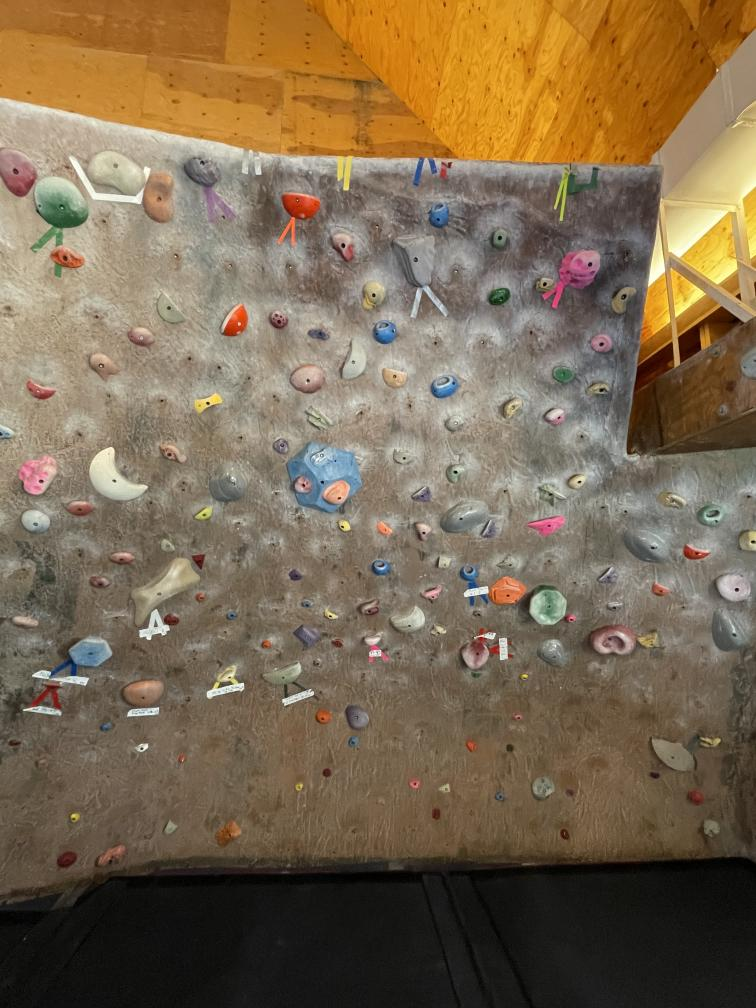Crimp: (89, 446, 149, 502), (260, 661, 303, 688), (388, 606, 427, 635), (156, 291, 187, 325), (26, 376, 56, 402), (292, 623, 320, 649), (381, 364, 408, 390), (485, 286, 512, 308), (682, 543, 712, 562), (648, 580, 673, 599), (306, 325, 331, 342), (88, 574, 113, 591), (271, 435, 291, 455), (376, 518, 394, 537), (286, 566, 305, 583), (40, 681, 64, 694), (161, 613, 181, 628), (193, 506, 214, 520), (158, 538, 177, 553), (338, 519, 353, 534), (323, 608, 339, 621)
Edges: (130, 556, 203, 630), (390, 228, 437, 290), (620, 521, 676, 568), (710, 604, 751, 659), (440, 497, 492, 532), (338, 337, 370, 383), (183, 152, 222, 189), (487, 574, 527, 608), (535, 636, 569, 671), (306, 405, 334, 434), (536, 481, 567, 506)
Foothold: (89, 840, 127, 869), (636, 629, 672, 655), (528, 774, 558, 802), (214, 820, 242, 849), (698, 730, 722, 751), (158, 818, 180, 839), (55, 853, 76, 872), (686, 787, 707, 806), (702, 817, 721, 838), (31, 756, 52, 772), (95, 723, 118, 737), (6, 736, 22, 754), (462, 739, 479, 755), (406, 778, 424, 792), (605, 600, 624, 612), (327, 638, 346, 649), (559, 826, 572, 842), (136, 742, 152, 755), (564, 614, 578, 628), (292, 782, 305, 796), (440, 782, 454, 794), (346, 736, 360, 748), (262, 636, 272, 651), (649, 770, 661, 782), (195, 592, 207, 604), (495, 790, 506, 803), (71, 812, 82, 825), (300, 599, 314, 609), (432, 807, 441, 821), (565, 788, 575, 799), (228, 610, 239, 620), (505, 745, 515, 755), (311, 658, 321, 668), (321, 769, 332, 778), (179, 754, 188, 765), (513, 713, 522, 722), (520, 674, 528, 682)
Jug: (34, 177, 89, 229), (87, 152, 144, 195), (648, 730, 699, 776), (558, 244, 604, 294), (0, 147, 37, 197), (18, 454, 60, 495), (143, 171, 174, 224), (119, 678, 167, 712), (67, 636, 113, 669), (529, 586, 567, 624), (215, 300, 250, 338), (288, 362, 325, 396), (279, 191, 321, 220), (458, 637, 490, 673), (714, 571, 751, 601), (20, 506, 52, 538), (654, 485, 690, 513), (609, 284, 638, 316), (49, 244, 86, 269), (87, 352, 119, 380), (525, 517, 570, 536), (343, 704, 372, 732), (360, 282, 388, 310), (330, 232, 355, 261), (125, 326, 157, 348), (160, 441, 188, 465), (488, 226, 512, 252), (310, 445, 335, 468), (581, 379, 611, 398), (588, 332, 612, 354), (10, 615, 42, 631), (501, 398, 524, 420), (67, 499, 96, 516), (293, 472, 314, 495), (108, 549, 136, 566), (597, 564, 619, 585), (543, 406, 568, 424), (268, 309, 289, 330), (410, 485, 434, 503), (359, 600, 382, 618), (569, 472, 589, 492), (446, 462, 466, 481), (417, 586, 443, 600), (480, 519, 497, 539), (362, 633, 384, 647)
Pinch: (193, 390, 226, 416), (549, 364, 575, 386), (442, 414, 466, 434), (393, 447, 419, 465), (217, 665, 240, 684), (534, 274, 557, 293), (191, 551, 207, 571), (437, 553, 452, 572), (430, 623, 447, 639)
Pocket: (587, 624, 635, 656), (696, 505, 726, 528), (430, 375, 458, 399), (372, 320, 399, 344), (430, 202, 448, 228), (415, 520, 431, 542), (371, 559, 391, 575), (459, 565, 477, 582)
Sloper: (207, 460, 252, 502), (321, 480, 351, 507), (315, 708, 330, 725)
